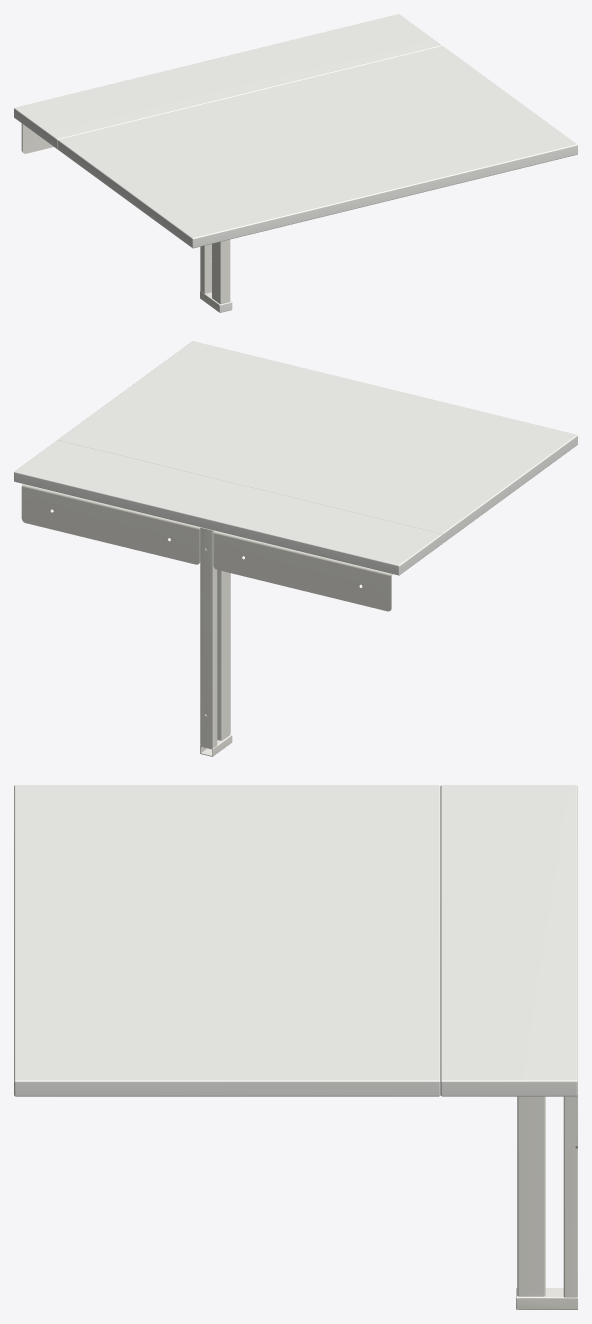
Rendered from 01 - NORBERG Wall-mounted drop-leaf table - white 74x60 cm.glb.
3 views of the same model, one above another, from view 1: azimuth 30°, elevation 25°; view 2: azimuth 150°, elevation 25°; view 3: azimuth 270°, elevation 25° (orthographic). The views are drawn at different scales.
Visible parts, largest first — view 1: Mesh_0; view 2: Mesh_0; view 3: Mesh_0.
Boxes of the visible parts, box(x1,y1,x2,y2) form: Mesh_0: box(14, 14, 577, 312); Mesh_0: box(14, 341, 577, 756); Mesh_0: box(14, 785, 577, 1309).
Bounding box in the file's own units: 0.7401 × 0.435 × 0.595.
Materials: 1 (1 with a texture image).
